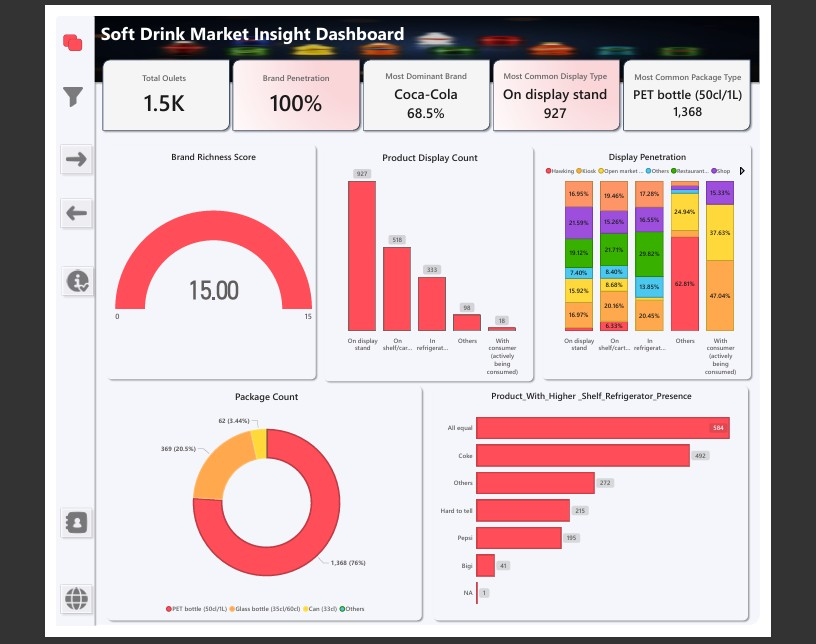

This screenshot's page, from the dashboard's own definition file:
{"tool":"powerbi","page":{"name":"Dashboard 2","canvas":[1500,1300],"ordinal":1},"visuals":[{"type":"clusteredColumnChart","title":"Product Display Count ","fields":{"Y":["Product_Display.Display Count"],"Category":["Product_Display.Product_displays"]},"box":[577.6,285.5,438.2,489.5],"z":0},{"type":"hundredPercentStackedColumnChart","title":"Display Penetration ","fields":{"Category":["Product_Display.Product_displays"],"Series":["Oulet_info.Type of Outlet"],"Y":["Product_Display.Display Penetration"]},"box":[1039.5,285.5,442.1,489.5],"z":1000},{"type":"donutChart","title":"Package Count","fields":{"Category":["Package_Type.Package_Type"],"Y":["Package_Type.Package Count"]},"box":[121.1,797.4,655.3,485.5],"z":2000},{"type":"barChart","title":"Product_With_Higher _Shelf_Refrigerator_Presence","fields":{"Category":["Package_Type.Product_With_Higher _Shelf_Refrigerator_Presence"],"Y":["Package_Type.Package Count"]},"box":[813.2,797.4,656.6,485.5],"z":3000},{"type":"gauge","title":"Brand Richness Score","fields":{"Y":["Product_Type.Avg Brands Per Outlet"],"MinValue":["Product_Type.Gauge Min"],"MaxValue":["Product_Type.Gauge Max"]},"box":[121.1,285.5,428.9,478.9],"z":4000},{"type":"cardVisual","fields":{"Data":["Oulet_info.Total Oulets"]},"box":[97.8,93.3,264.4,148.9],"z":5000},{"type":"cardVisual","fields":{"Data":["Oulet_info.Brand Penetration %"]},"box":[378.9,93.3,265.6,148.9],"z":6000},{"type":"cardVisual","fields":{"Data":["Oulet_info.Most Dominant Brand + value"]},"box":[652.5,93.4,272.1,149.2],"z":7000},{"type":"cardVisual","fields":{"Data":["Oulet_info.Most Common Display Type + value"]},"box":[924.6,93.4,278.7,149.2],"z":8000},{"type":"cardVisual","fields":{"Data":["Oulet_info.Most Common Package Type + value"]},"box":[1211.1,93.3,271.1,148.9],"z":9000},{"type":"shape","box":[15.3,38.6,29,26.1],"z":10000},{"type":"shape","box":[25.6,47.7,29,26.1],"z":11000},{"type":"actionButton","box":[14.9,144.7,42.6,55.3],"z":12000},{"type":"textbox","box":[90,5,853.4,74.1],"z":13000},{"type":"actionButton","box":[0,265,85,80],"z":15000},{"type":"actionButton","box":[0,380,85,80],"z":16000},{"type":"actionButton","box":[2.5,525,85,80],"z":17000},{"type":"actionButton","box":[0,1202.5,85,80],"z":18000},{"type":"actionButton","box":[0,1040,85,80],"z":19000}]}

Visuals, with their boxes on the page's 1500x1300 design canvas (x1, y1, x2, y2). These are canvas units, not pixel positions in the 816x644 screenshot, which may show the page scaled, cropped or inside an application window:
"Product Display Count " clusteredColumnChart: {"x1": 578, "y1": 286, "x2": 1016, "y2": 775}
"Display Penetration " hundredPercentStackedColumnChart: {"x1": 1040, "y1": 286, "x2": 1482, "y2": 775}
"Package Count" donutChart: {"x1": 121, "y1": 797, "x2": 776, "y2": 1283}
"Product_With_Higher _Shelf_Refrigerator_Presence" barChart: {"x1": 813, "y1": 797, "x2": 1470, "y2": 1283}
"Brand Richness Score" gauge: {"x1": 121, "y1": 286, "x2": 550, "y2": 764}
cardVisual - Oulet_info.Total Oulets: {"x1": 98, "y1": 93, "x2": 362, "y2": 242}
cardVisual - Oulet_info.Brand Penetration %: {"x1": 379, "y1": 93, "x2": 644, "y2": 242}
cardVisual - Oulet_info.Most Dominant Brand + value: {"x1": 652, "y1": 93, "x2": 925, "y2": 243}
cardVisual - Oulet_info.Most Common Display Type + value: {"x1": 925, "y1": 93, "x2": 1203, "y2": 243}
cardVisual - Oulet_info.Most Common Package Type + value: {"x1": 1211, "y1": 93, "x2": 1482, "y2": 242}
shape: {"x1": 15, "y1": 39, "x2": 44, "y2": 65}
shape: {"x1": 26, "y1": 48, "x2": 55, "y2": 74}
actionButton: {"x1": 15, "y1": 145, "x2": 58, "y2": 200}
textbox: {"x1": 90, "y1": 5, "x2": 943, "y2": 79}
actionButton: {"x1": 0, "y1": 265, "x2": 85, "y2": 345}
actionButton: {"x1": 0, "y1": 380, "x2": 85, "y2": 460}
actionButton: {"x1": 2, "y1": 525, "x2": 88, "y2": 605}
actionButton: {"x1": 0, "y1": 1202, "x2": 85, "y2": 1282}
actionButton: {"x1": 0, "y1": 1040, "x2": 85, "y2": 1120}
